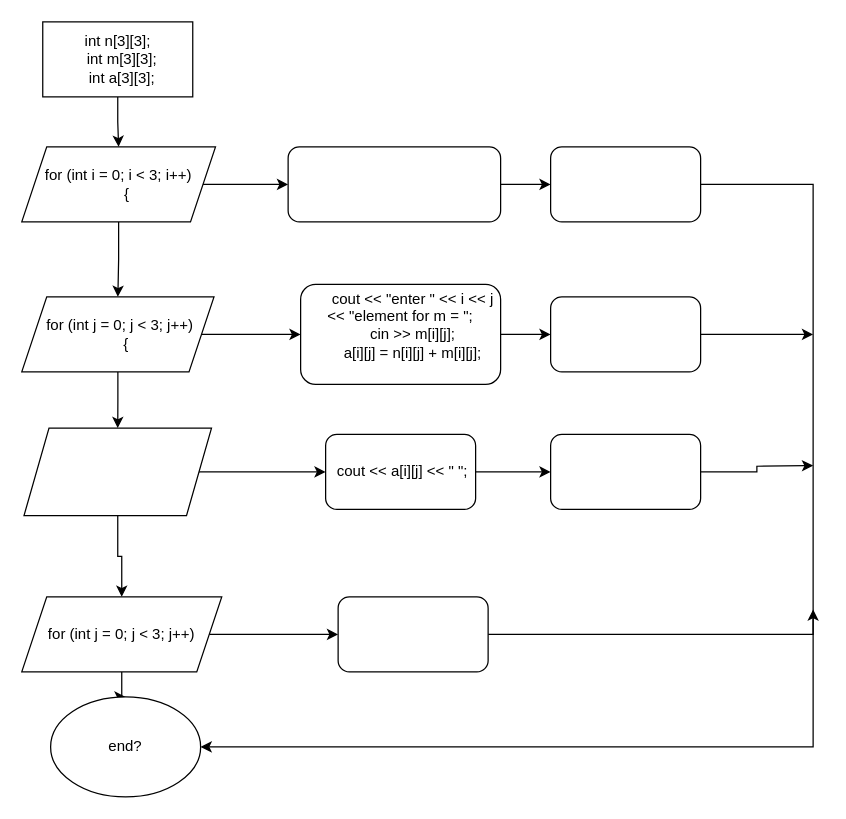
This 846x819 diagram has some shape labels left out. Here are the shapes that lost their labels. From the top down, the box of each, then its label:
(287, 146, 501, 222): cout << "enter " << i << j << "element for n = "; cin >> n[i][j];
(23, 427, 212, 516): for (int i = 0; i < 3; i++)
(337, 596, 488, 672): cout << endl;
